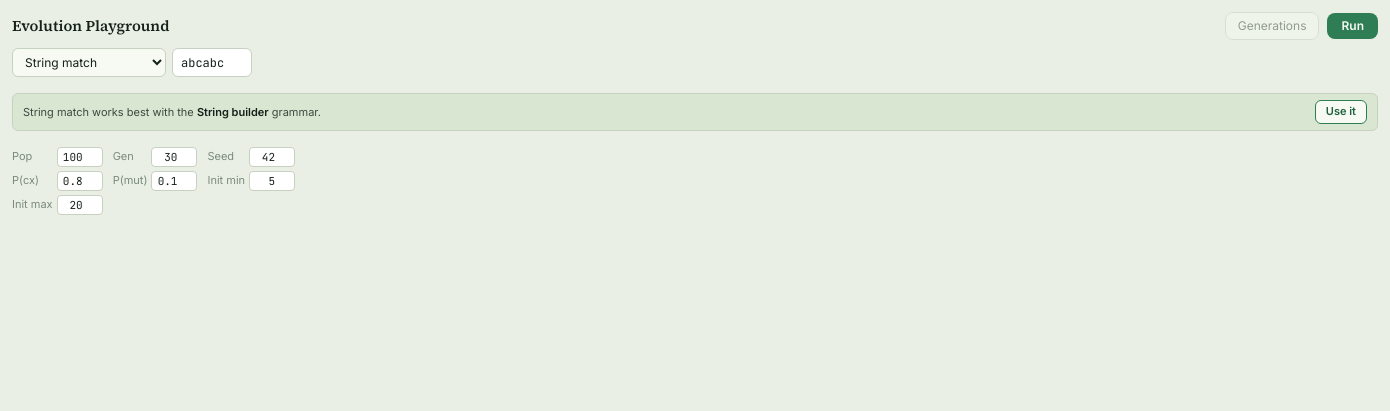
Test: EvolutionPanel › runs evolution and renders results
This screenshot has width=1390, height=411.
Click the button "Run".
click(1353, 26)  # box [1328,13,1378,39]
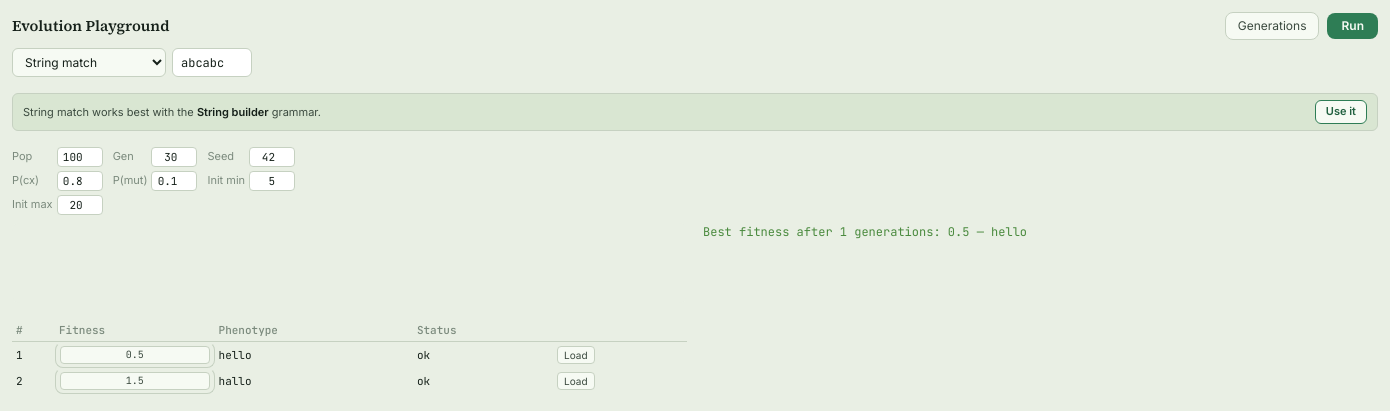
Now the text "hello" is shown, box [214,342,413,368]
Now the text "hallo" is shown, box [214,368,413,394]
Now the text "Best fitness after 1 generations: 0.5 — hello" is shown, box [703,224,1027,240]
